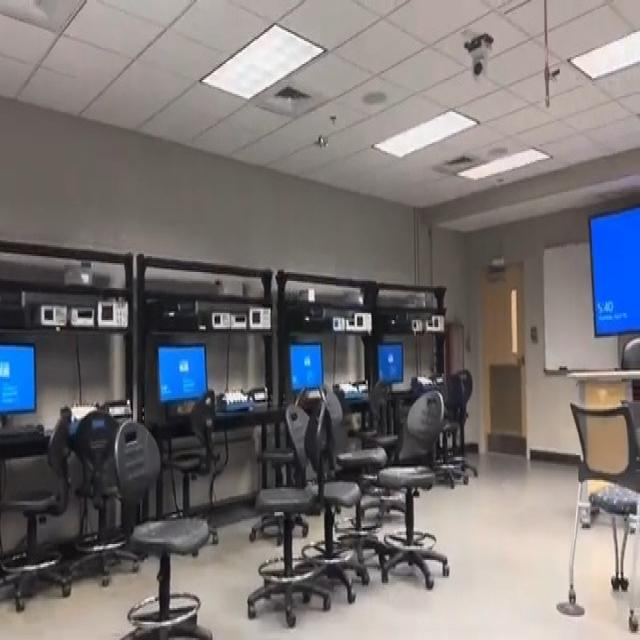drone: (309, 114, 336, 158)
